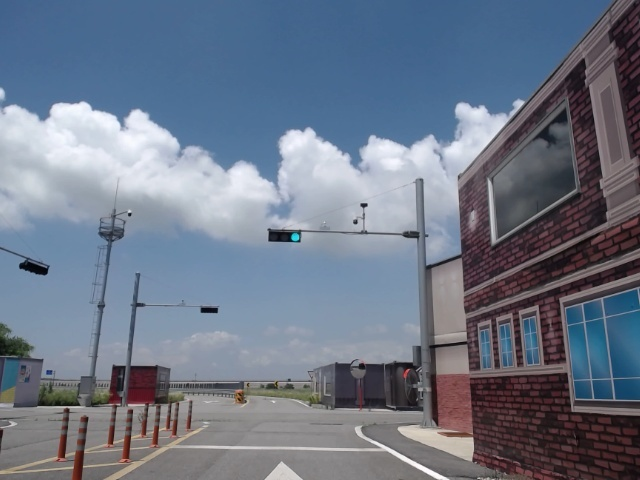green_3: (269, 232, 301, 242)
